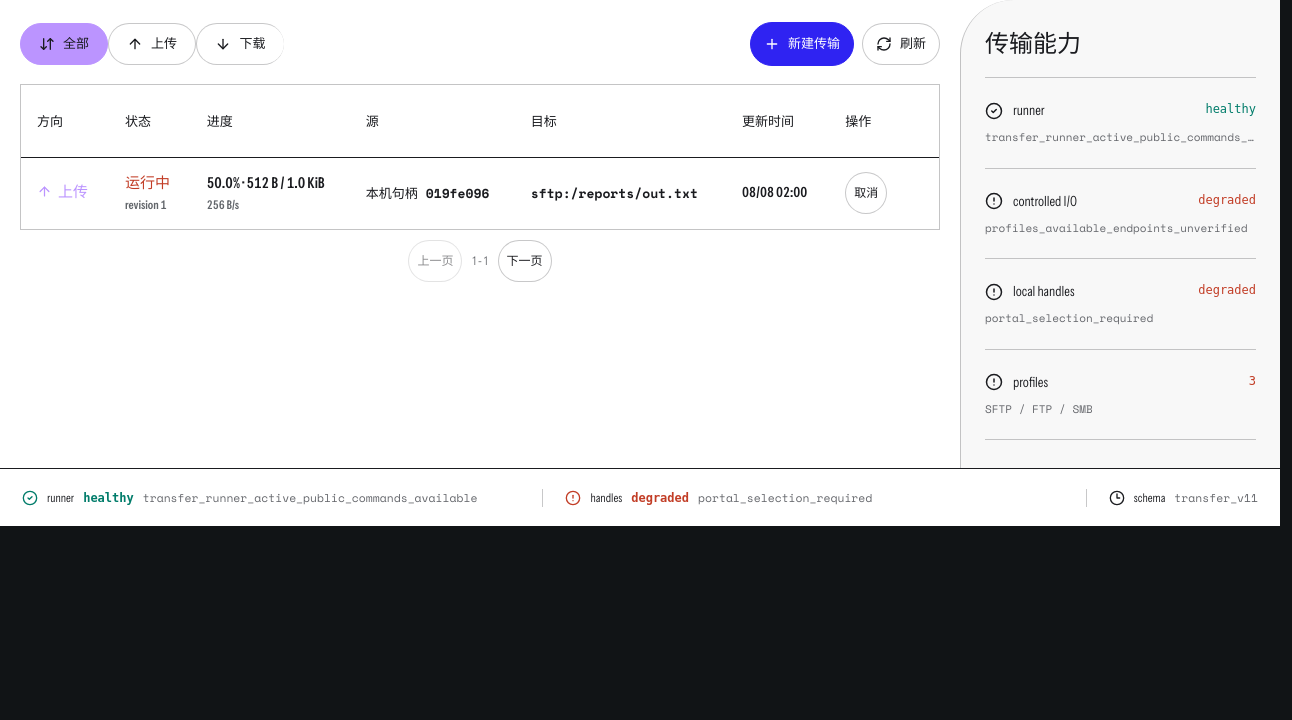
Test: TransfersView › keeps pagination history when an enqueued task cannot refresh the queue
Click the button "下一页": (524, 261) [498, 240, 552, 282]
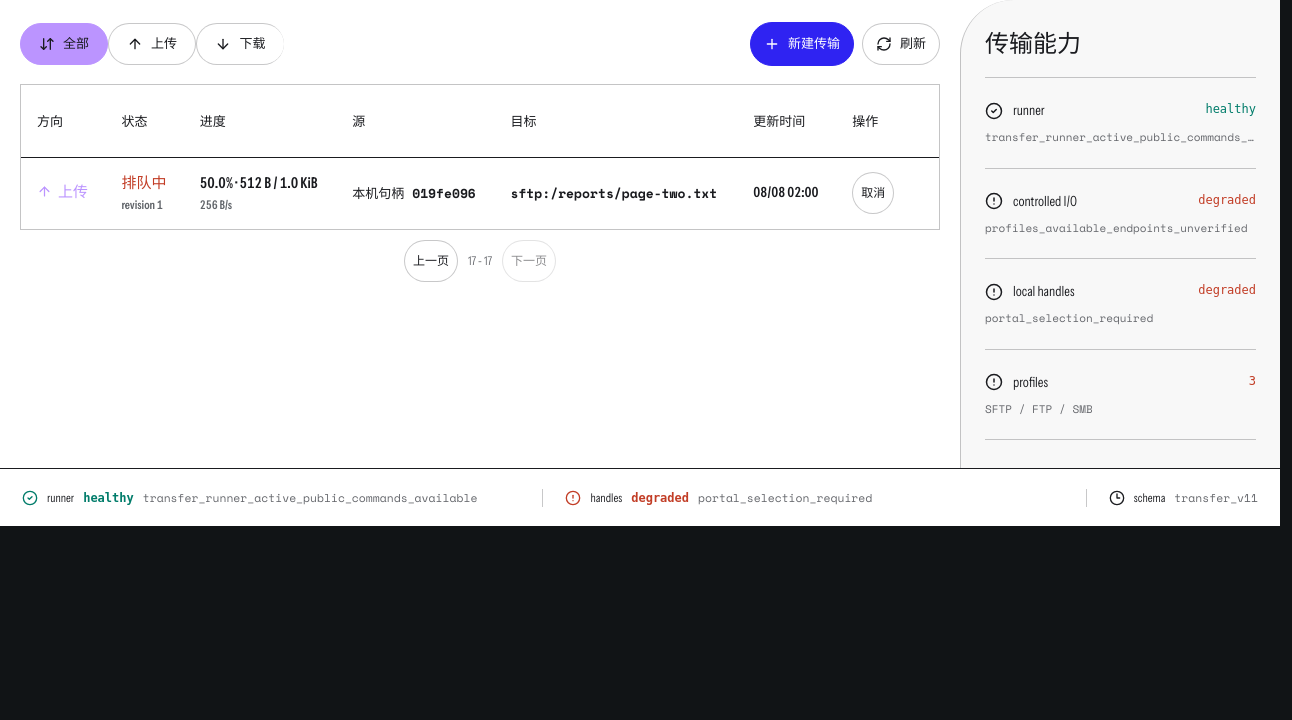
Click the button with class "transfer-primary-button": (802, 44) [750, 22, 854, 66]
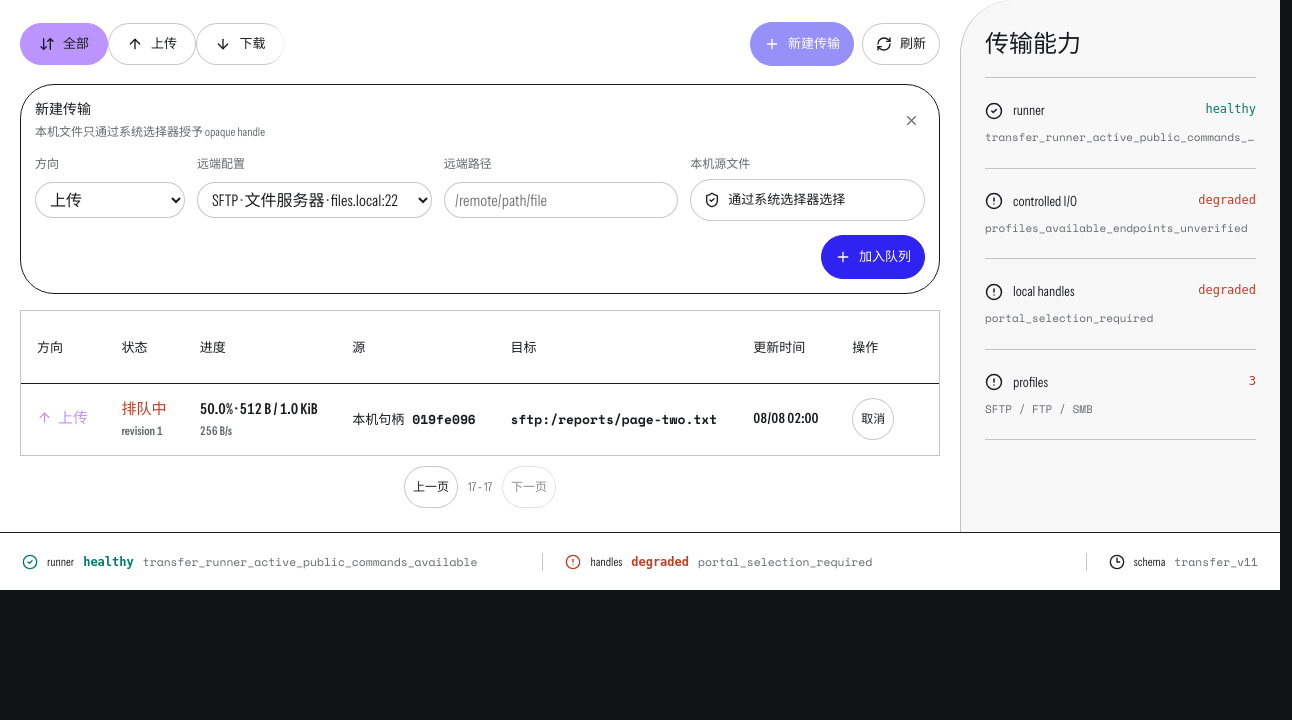
Select "SFTP · 文件服务器 · files.local:22" in the dropdown labelled "远端配置": (314, 200) [197, 182, 432, 218]
In the field labelled "远端路径": (561, 200) [444, 182, 678, 218], type "/incoming/report.txt"
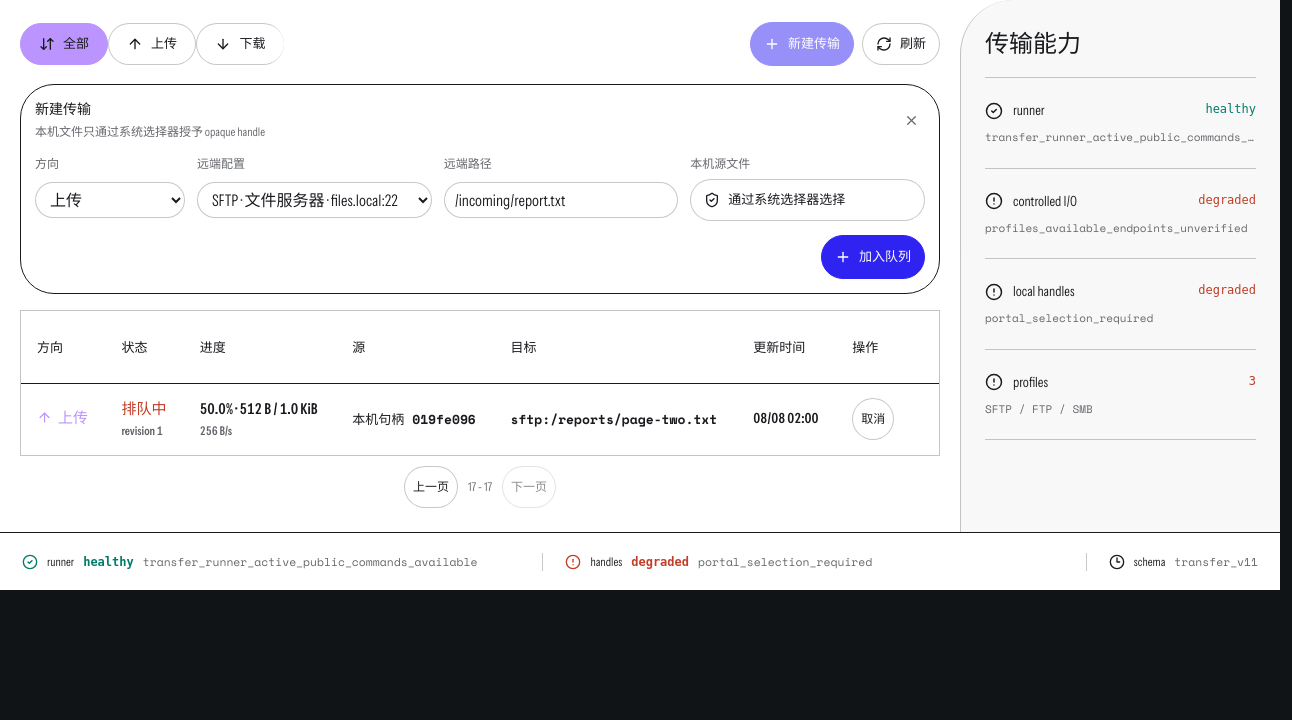
Click the button "通过系统选择器选择": (808, 200) [690, 179, 925, 221]
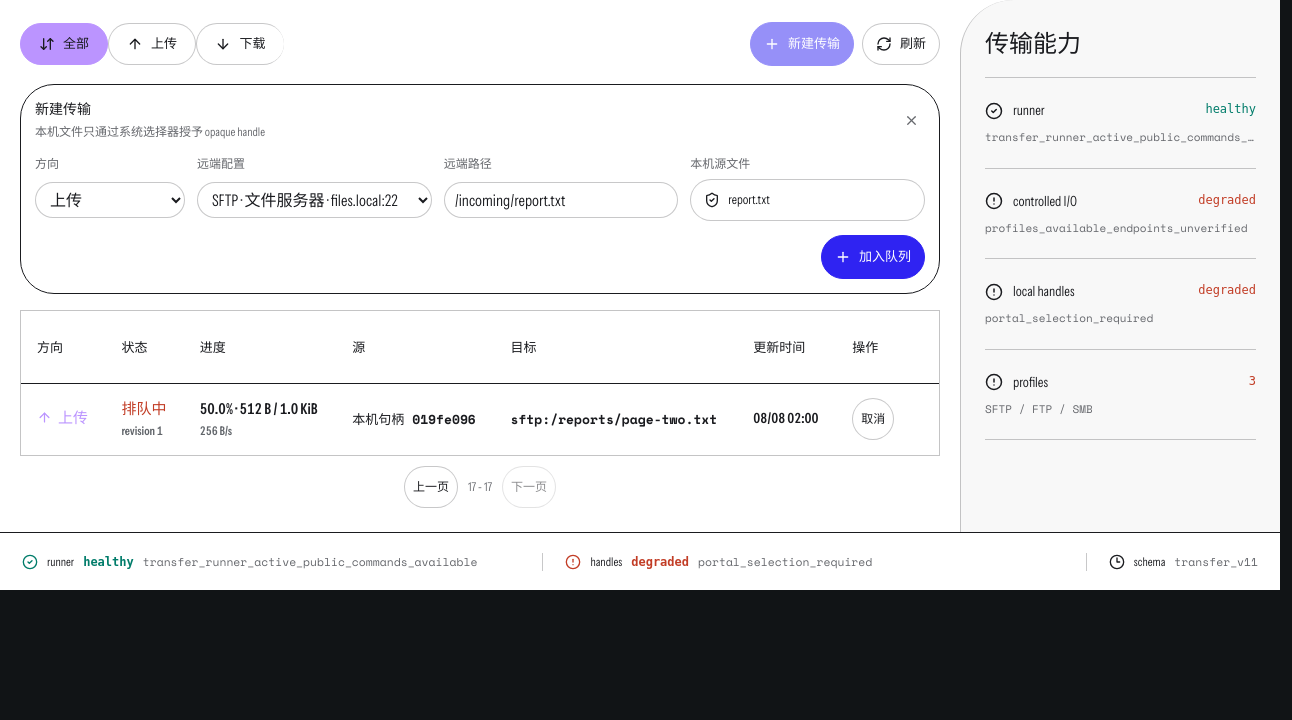
Submit the form, box [20, 84, 940, 294]
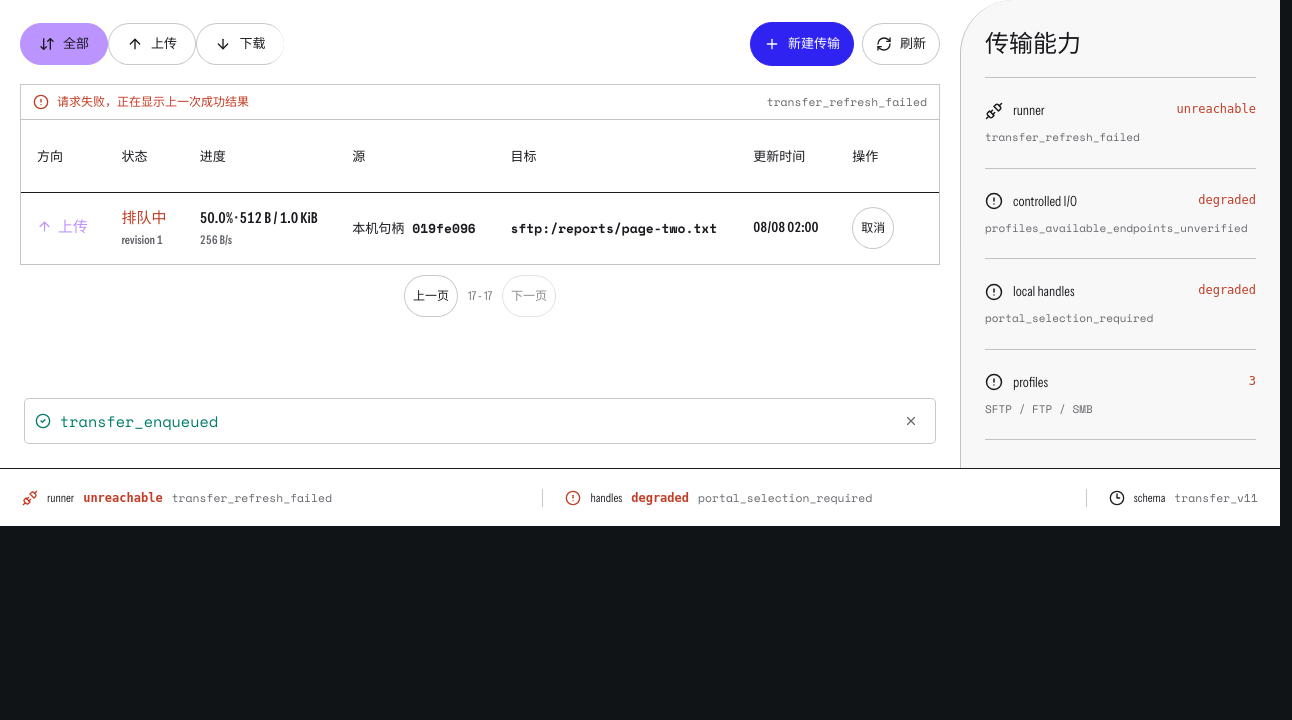
Check: the text "/reports/page-two.txt" is shown, box [510, 218, 717, 238]
Check: the button "上一页" is enabled
Check: the text "transfer_refresh_failed" is shown, box [767, 93, 927, 110]
Click the button "上一页": (431, 296) [404, 275, 458, 317]
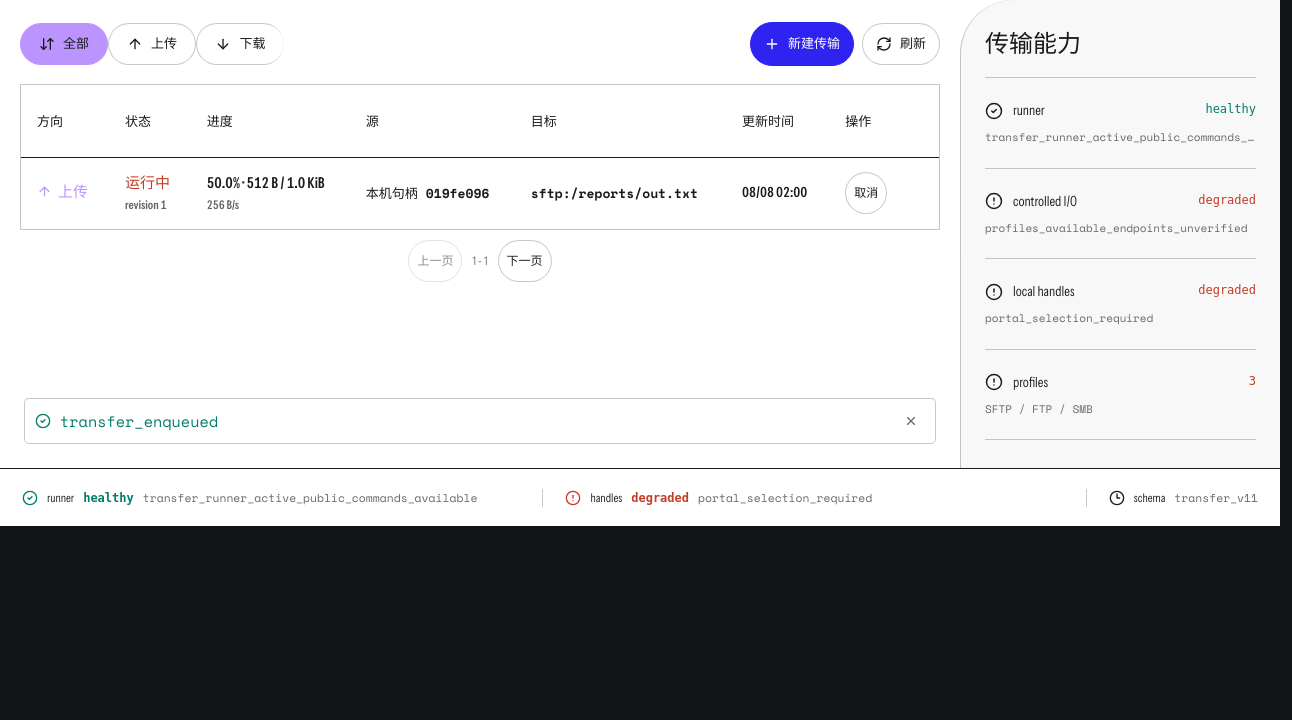
Check: the text "/reports/out.txt" is shown, box [531, 183, 698, 203]
